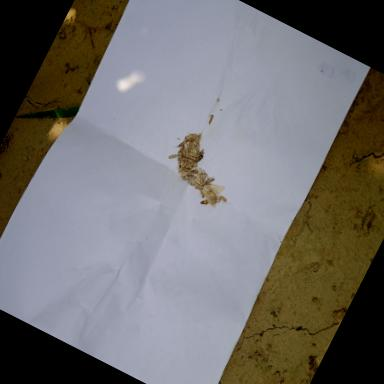pbw: (182, 172, 194, 184), (187, 167, 198, 179), (204, 114, 214, 127), (174, 158, 184, 171), (192, 142, 202, 155), (196, 173, 206, 185), (192, 172, 204, 182), (195, 148, 205, 160), (182, 148, 192, 160), (194, 132, 203, 145), (188, 163, 198, 174), (187, 130, 198, 140), (186, 157, 198, 166), (176, 150, 186, 160), (212, 196, 222, 206), (168, 152, 178, 162), (180, 159, 189, 170), (184, 160, 193, 171), (216, 196, 228, 204), (199, 182, 207, 194), (205, 176, 214, 186), (200, 198, 209, 208), (184, 134, 194, 143), (192, 178, 203, 186), (187, 136, 196, 145), (186, 140, 195, 149), (200, 174, 208, 184), (192, 136, 200, 146), (179, 156, 189, 164), (180, 148, 188, 158), (197, 168, 206, 176), (188, 150, 196, 158), (188, 144, 196, 152), (187, 155, 196, 162), (180, 169, 188, 176), (195, 185, 202, 192), (182, 166, 190, 172)
